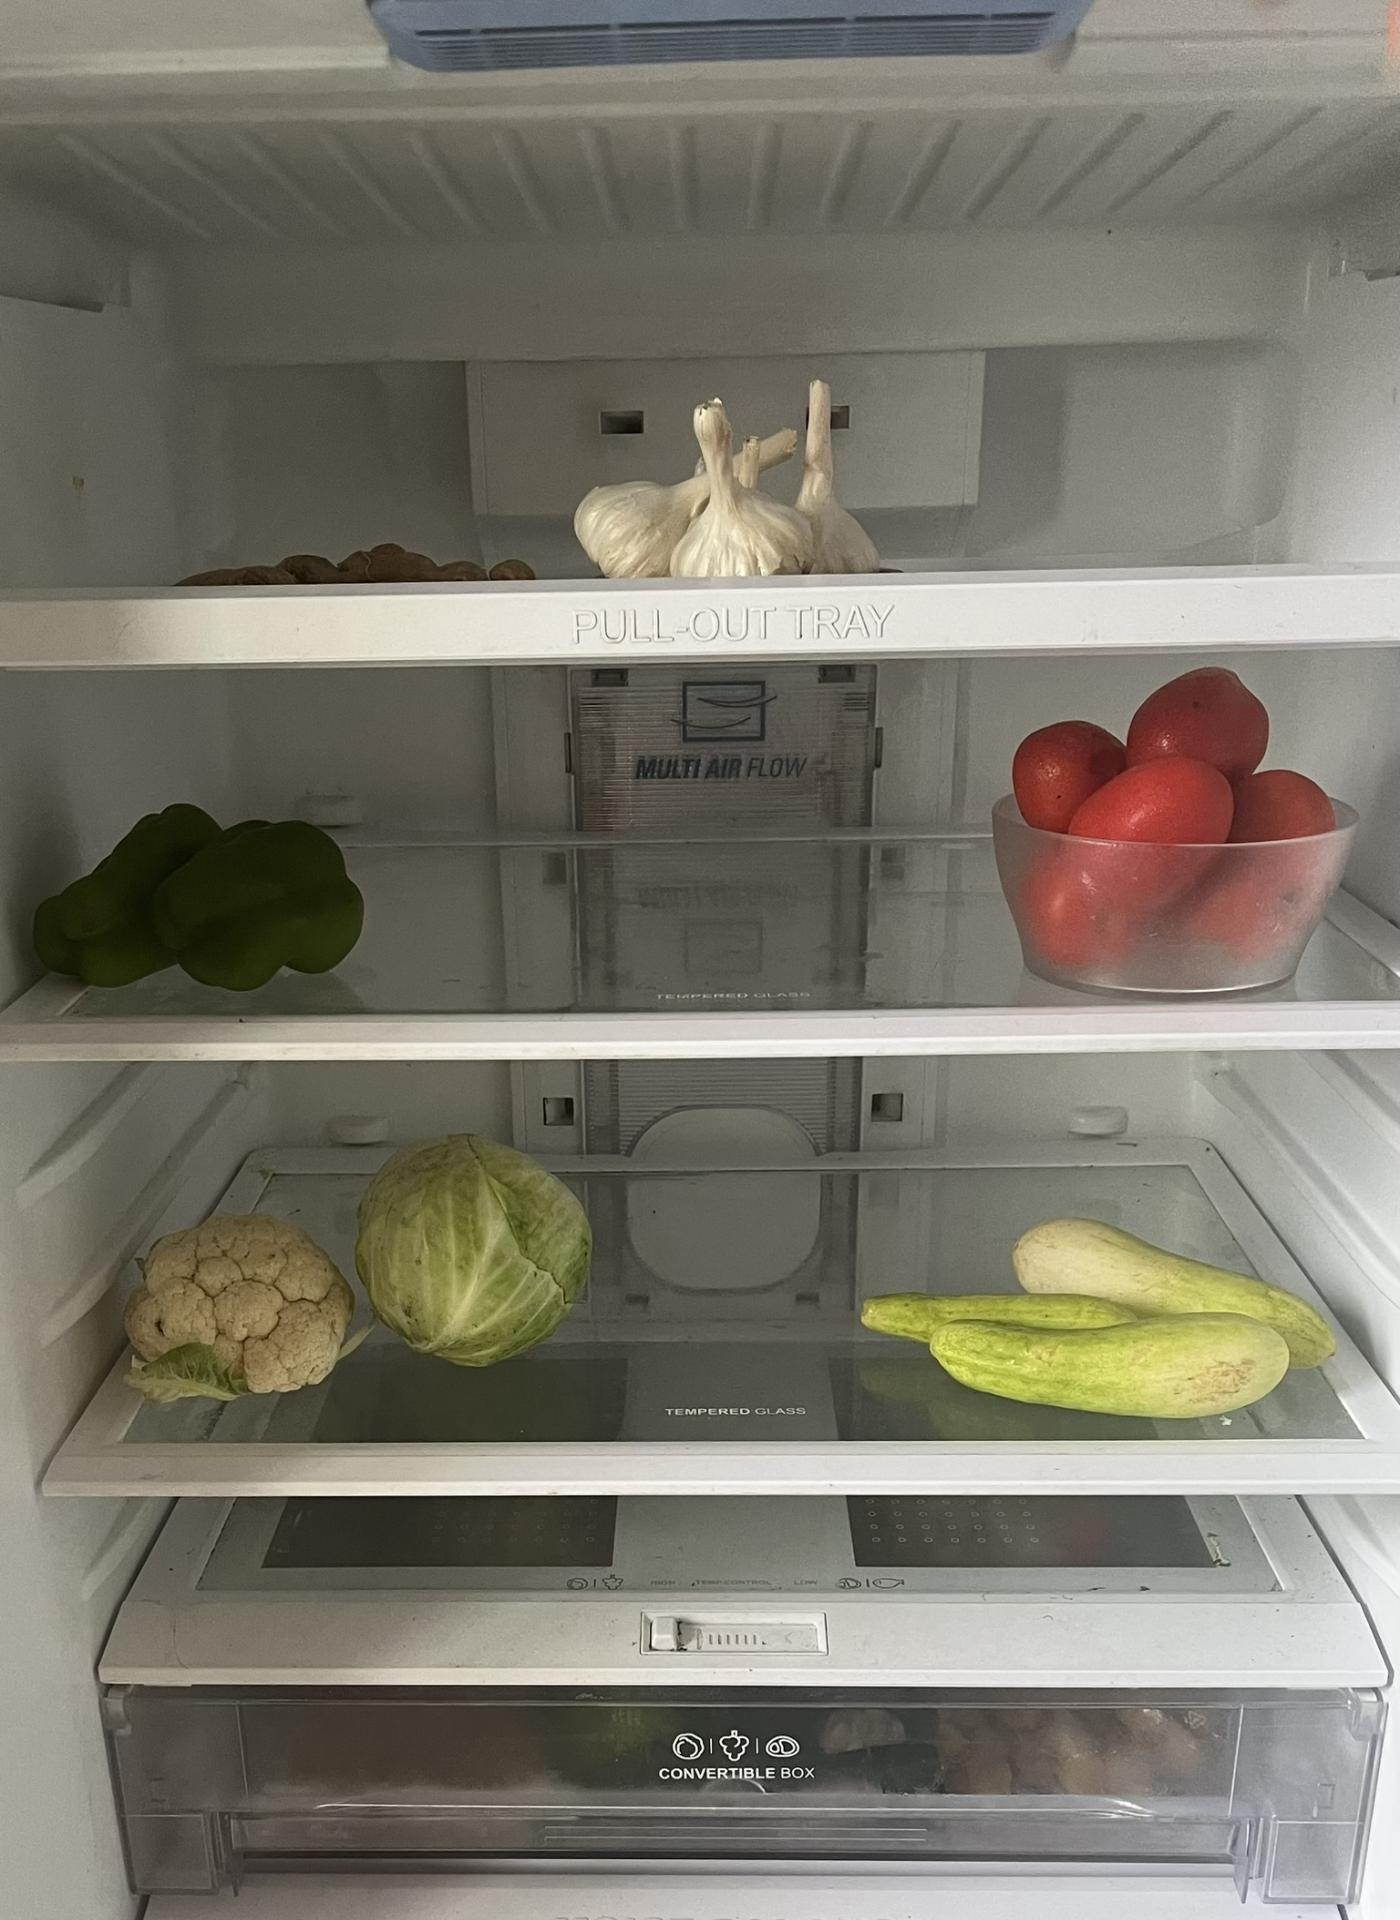cabbage: (349, 1122, 598, 1368)
capsicum: (24, 790, 371, 996)
cauliflower: (115, 1203, 364, 1413)
cucumber: (857, 1203, 1355, 1425)
garlic: (568, 376, 893, 578)
ginger: (170, 541, 544, 581)
tomato: (1003, 666, 1373, 1000)
